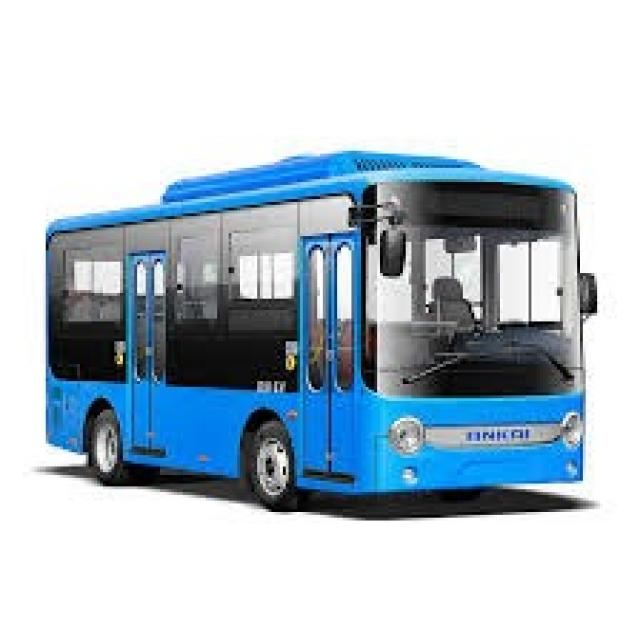bus: (38, 139, 607, 557)
